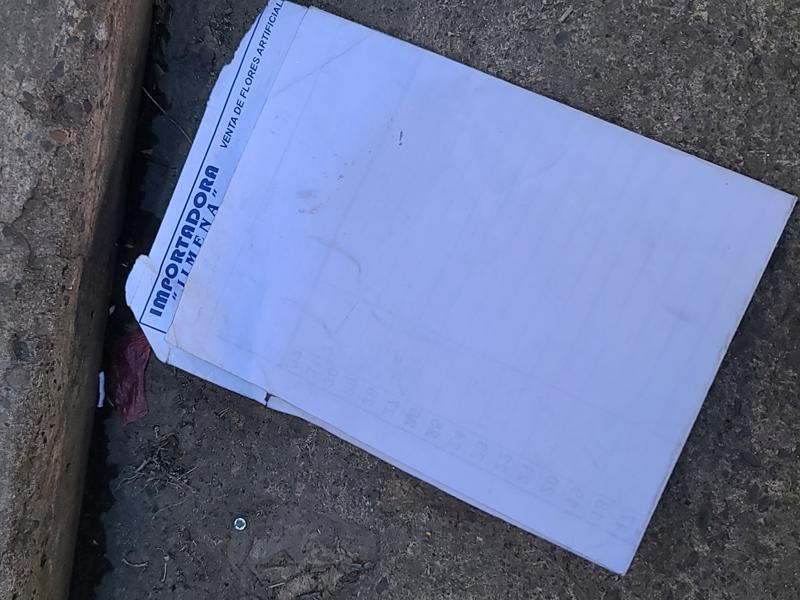papel: (122, 0, 799, 577)
